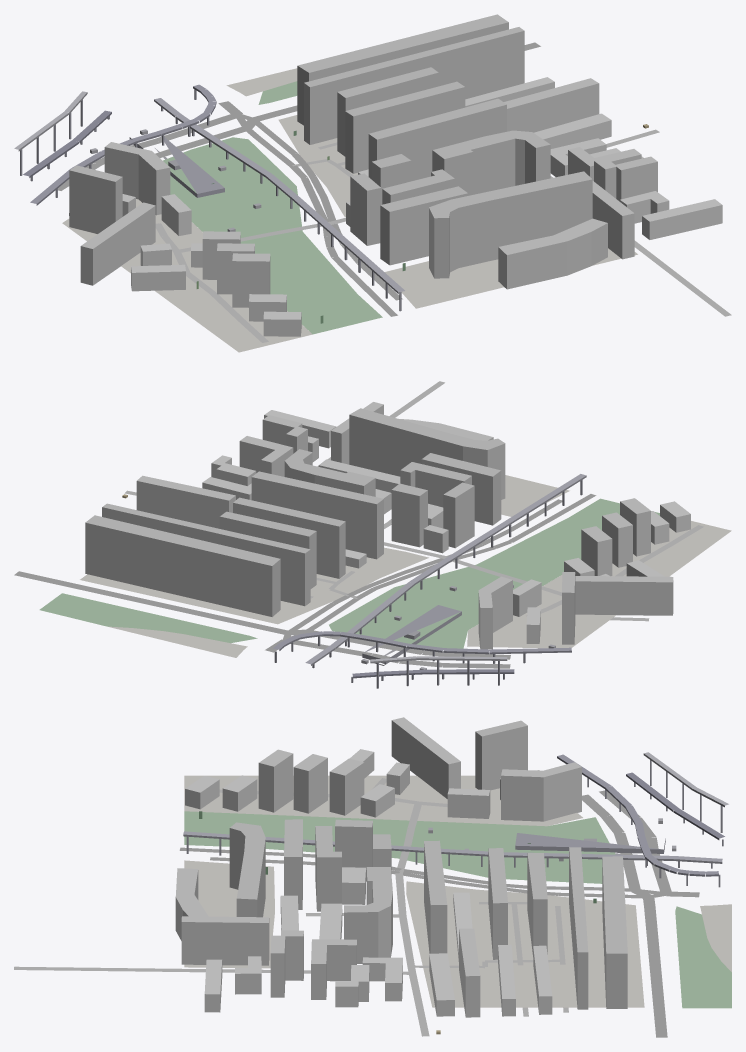
The picture shows the model from 3 angles, top to bottom: view 1: azimuth 30°, elevation 25°; view 2: azimuth 150°, elevation 25°; view 3: azimuth 270°, elevation 25°; orthographic projection. The views are drawn at different scales.
Size of the model in its own units: 612 by 67.96 by 655.
